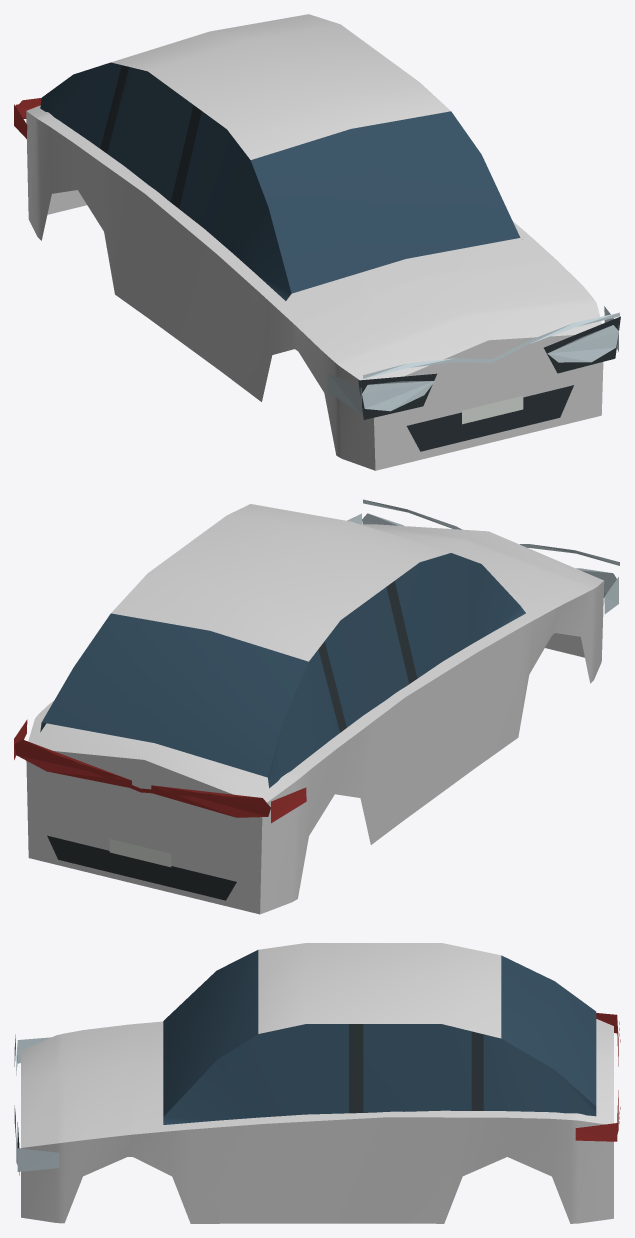
Rendered from veh_vf8-lod2.glb.
3 views of the same model, one above another, from view 1: azimuth 30°, elevation 25°; view 2: azimuth 150°, elevation 25°; view 3: azimuth 270°, elevation 25° (orthographic). The views are drawn at different scales.
Visible parts, largest first — view 1: paint, glass, trim, head, plate; view 2: paint, glass, trim, tail, head, plate; view 3: paint, glass, trim, head, tail.
Part boxes in pixels (bbox=[...]): paint: bbox=[26, 14, 603, 470]; glass: bbox=[40, 62, 522, 300]; trim: bbox=[100, 65, 620, 451]; head: bbox=[328, 306, 619, 415]; plate: bbox=[462, 396, 523, 424]; paint: bbox=[26, 504, 604, 914]; glass: bbox=[40, 553, 525, 788]; trim: bbox=[47, 581, 417, 900]; tail: bbox=[14, 719, 306, 823]; head: bbox=[347, 499, 619, 613]; plate: bbox=[109, 839, 171, 867]; paint: bbox=[21, 943, 613, 1223]; glass: bbox=[163, 950, 596, 1124]; trim: bbox=[17, 1024, 483, 1175]; head: bbox=[14, 1034, 59, 1171]; tail: bbox=[575, 1013, 620, 1141].
Size of the model in its own units: 1.5 by 1.15 by 3.27.
